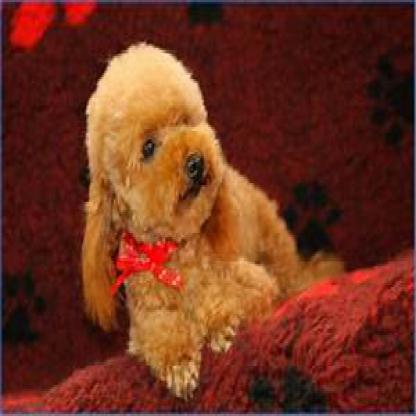dog: (80, 42, 300, 402)
